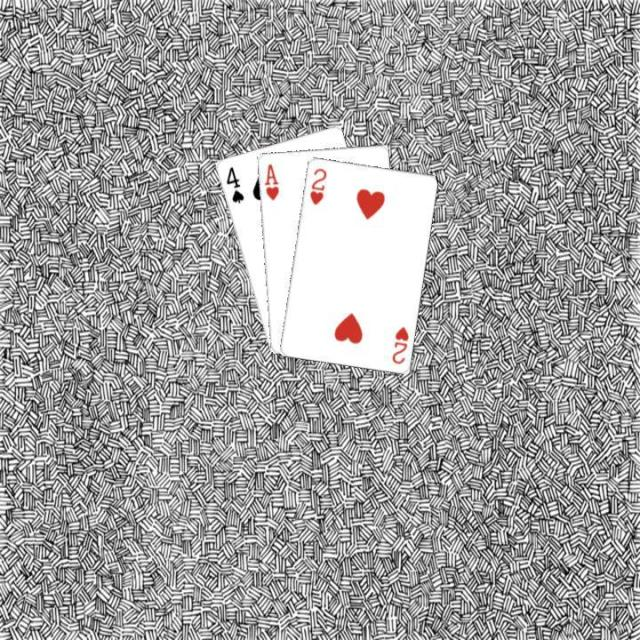2H: (388, 322, 410, 365), (306, 164, 328, 206)
4S: (222, 162, 246, 205)
AH: (260, 160, 280, 202)
